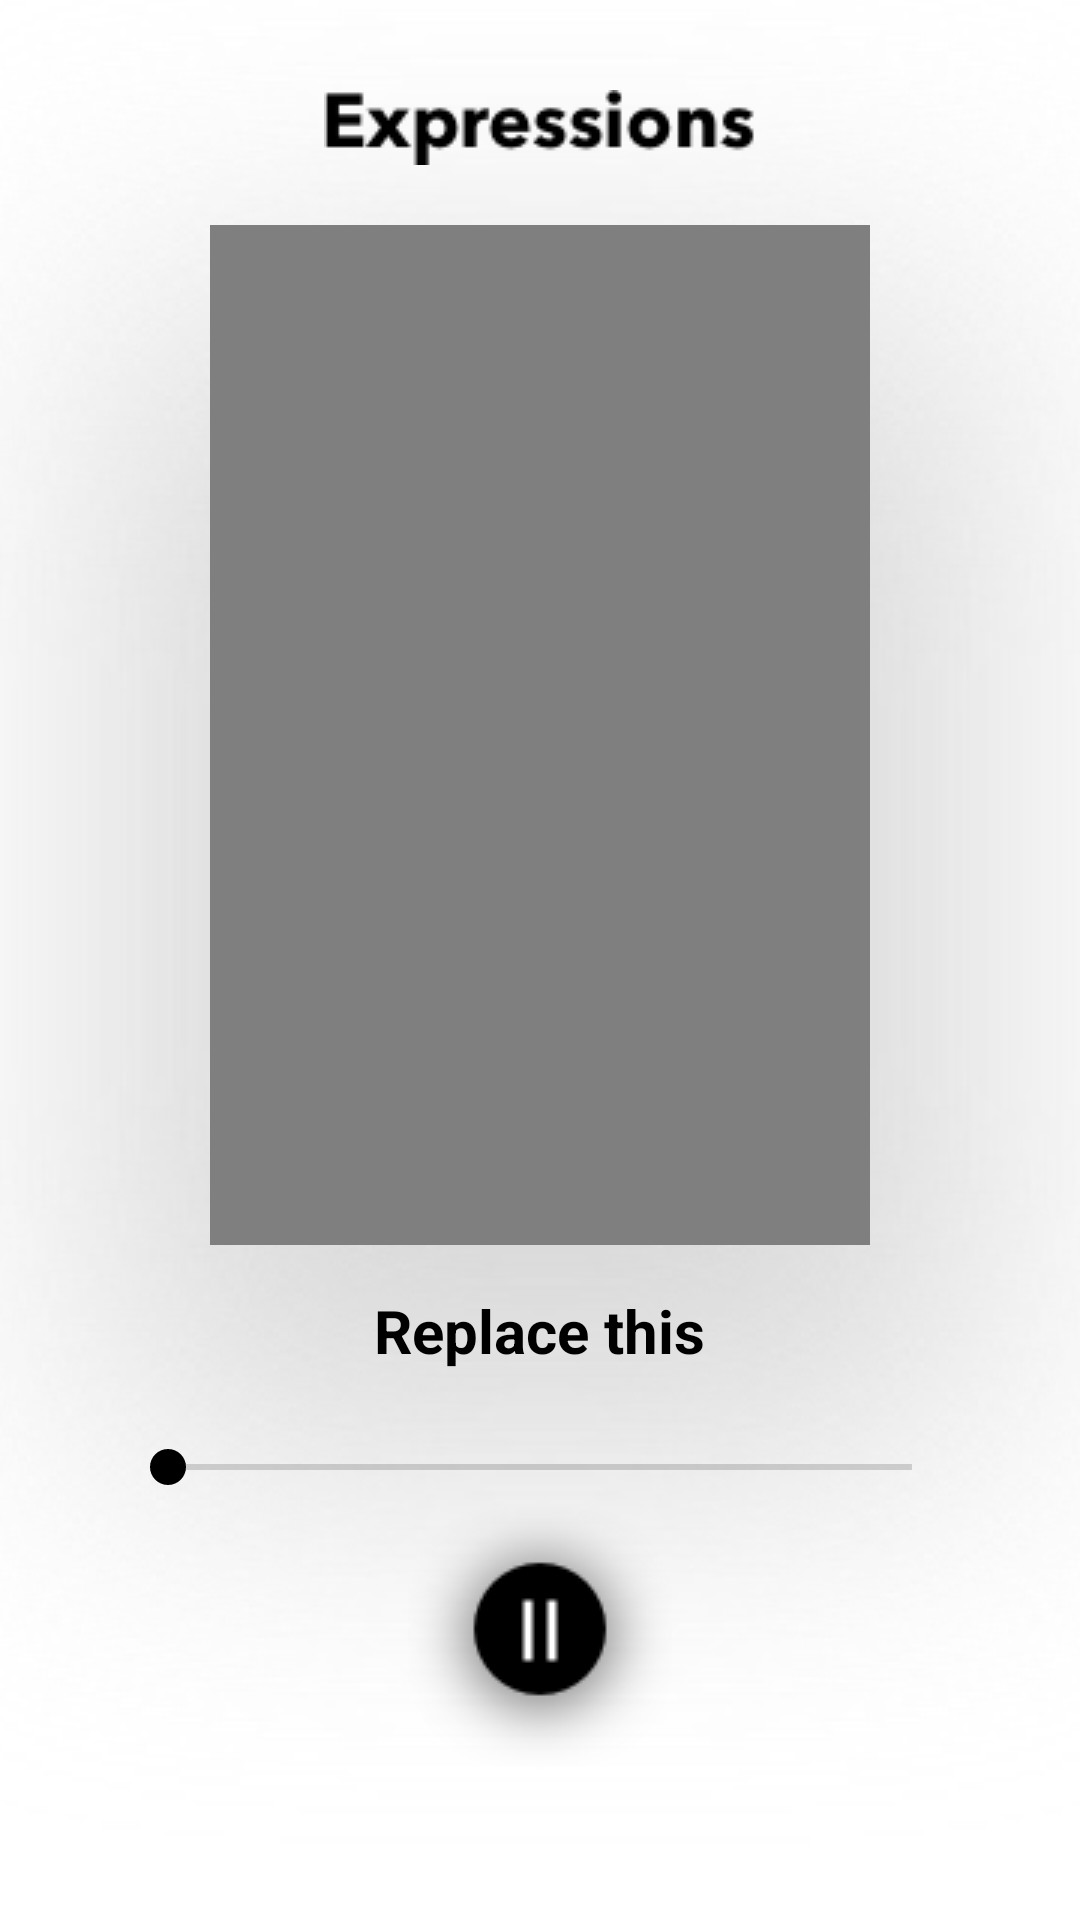

Locate icon controls on the screen. Image size 1080 × 1920, boxes as (x1=x1, y1=y1, x2=x2, y2=y2).
pause: (x1=440, y1=1529, x2=640, y2=1731)
